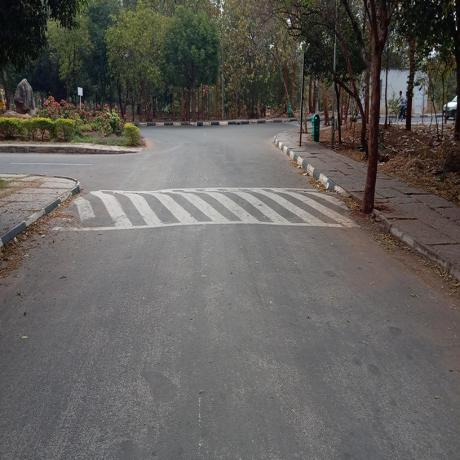Speed Bump: (48, 189, 361, 229)
